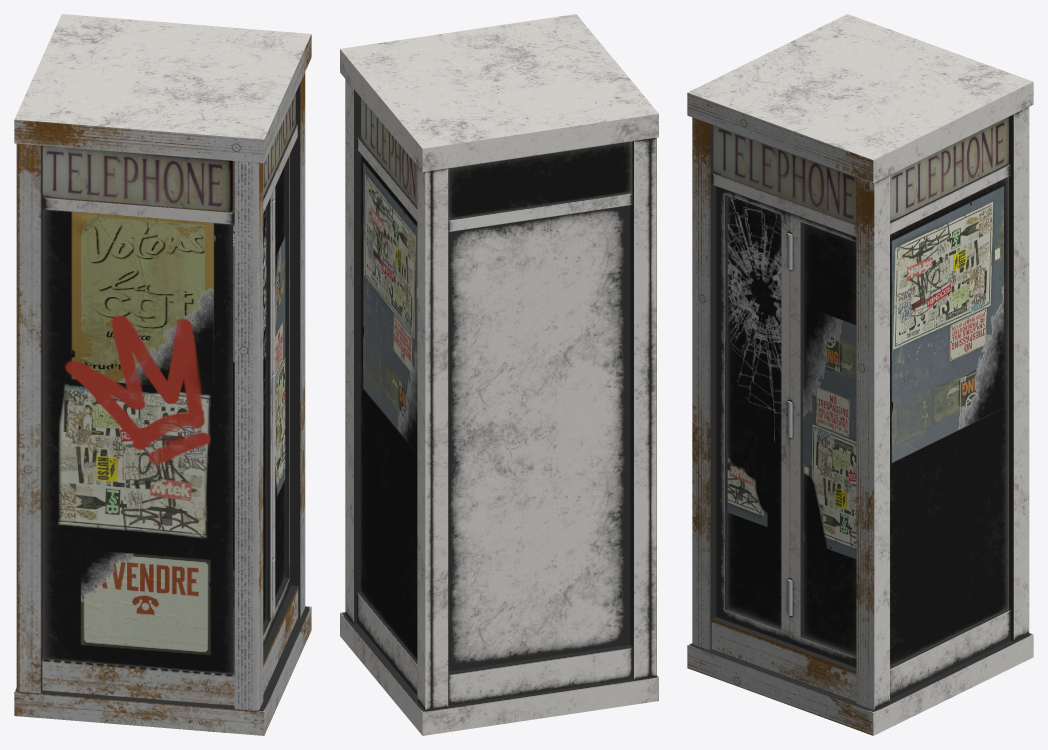
The picture shows the model from 3 angles, left to right: view 1: azimuth 30°, elevation 25°; view 2: azimuth 150°, elevation 25°; view 3: azimuth 270°, elevation 25°; orthographic projection. The views are drawn at different scales.
Visible parts, largest first — view 1: ____263_22 - Defaultgesg_0; view 2: ____263_22 - Defaultgesg_0; view 3: ____263_22 - Defaultgesg_0.
Part boxes in pixels (x1,y1,x2,y2): ____263_22 - Defaultgesg_0: (14, 14, 311, 735); ____263_22 - Defaultgesg_0: (340, 14, 658, 735); ____263_22 - Defaultgesg_0: (687, 14, 1033, 735).
Bounding box in the file's own units: 1.28 × 2.35 × 1.28.
2 materials, 2 textured.
